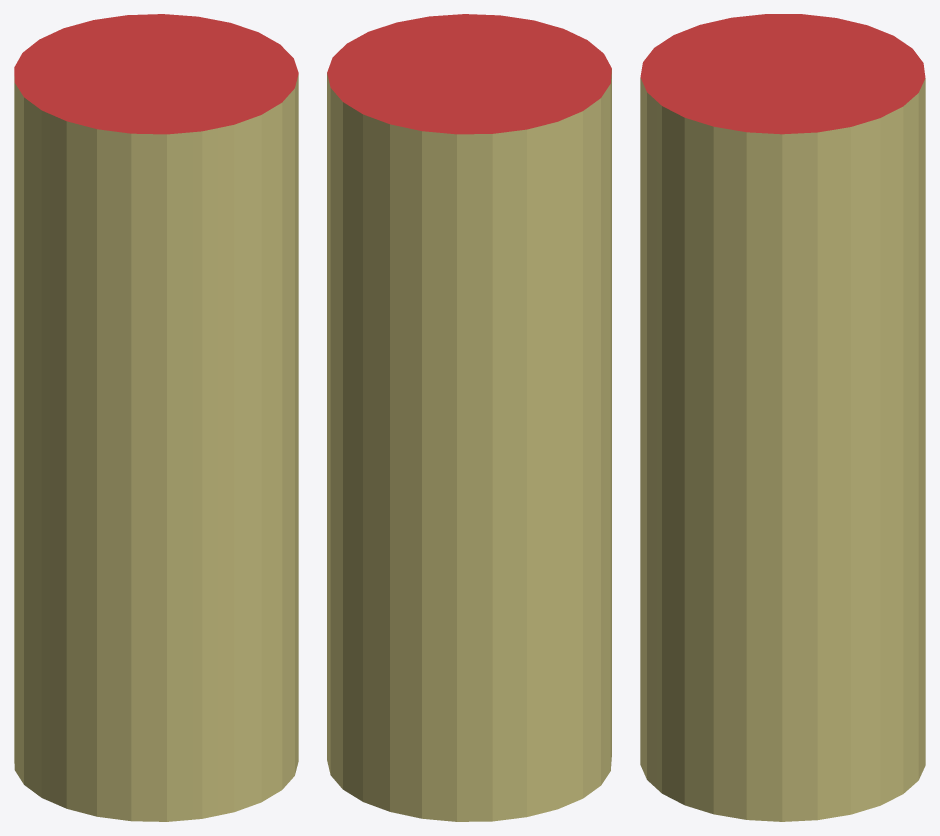
The picture shows the model from 3 angles, left to right: view 1: azimuth 30°, elevation 25°; view 2: azimuth 150°, elevation 25°; view 3: azimuth 270°, elevation 25°; orthographic projection.
Size of the model in its own units: 3.05 by 3.05 by 8.12.
